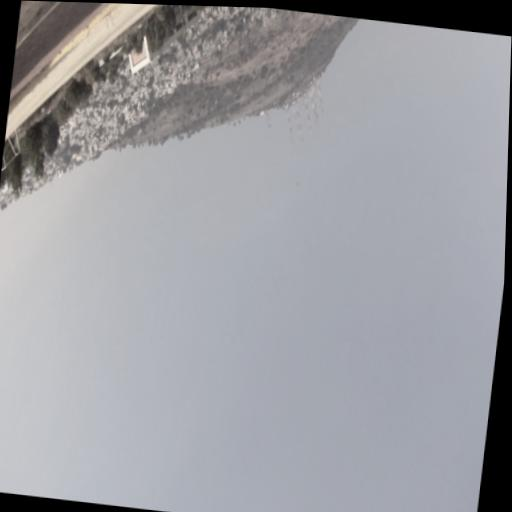drones: (295, 182, 300, 188)
